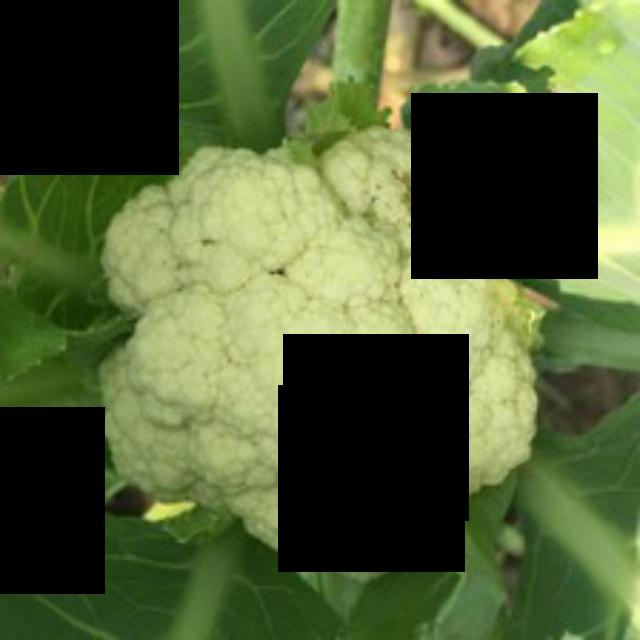cauliflower: (97, 118, 569, 574)
